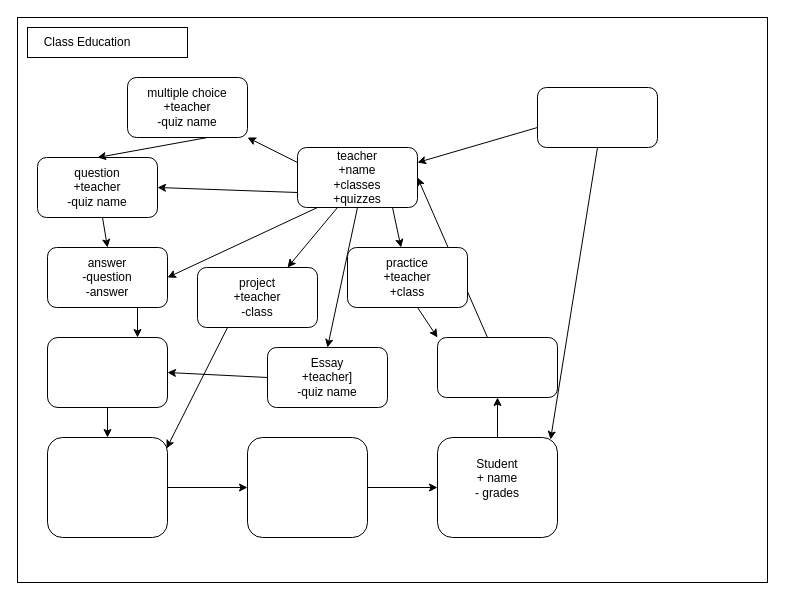
The diagram is 785 pixels wide and 600 high, and some of its shapes have lost their labels. Each missing label, with the box of its shape:
Class +teacher -students: (436, 336, 558, 398)
Grade +name -results -agregate: (246, 436, 368, 538)
quiz +questions -answers: (46, 336, 168, 408)
Result: + quiz name -quiz result: (46, 436, 168, 538)
user +type -name: (536, 86, 658, 148)
